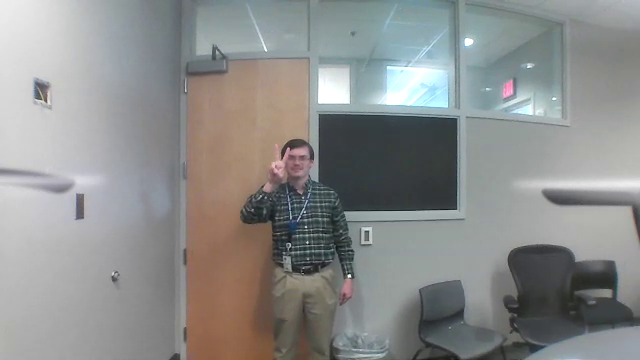peace: (265, 139, 296, 184)
